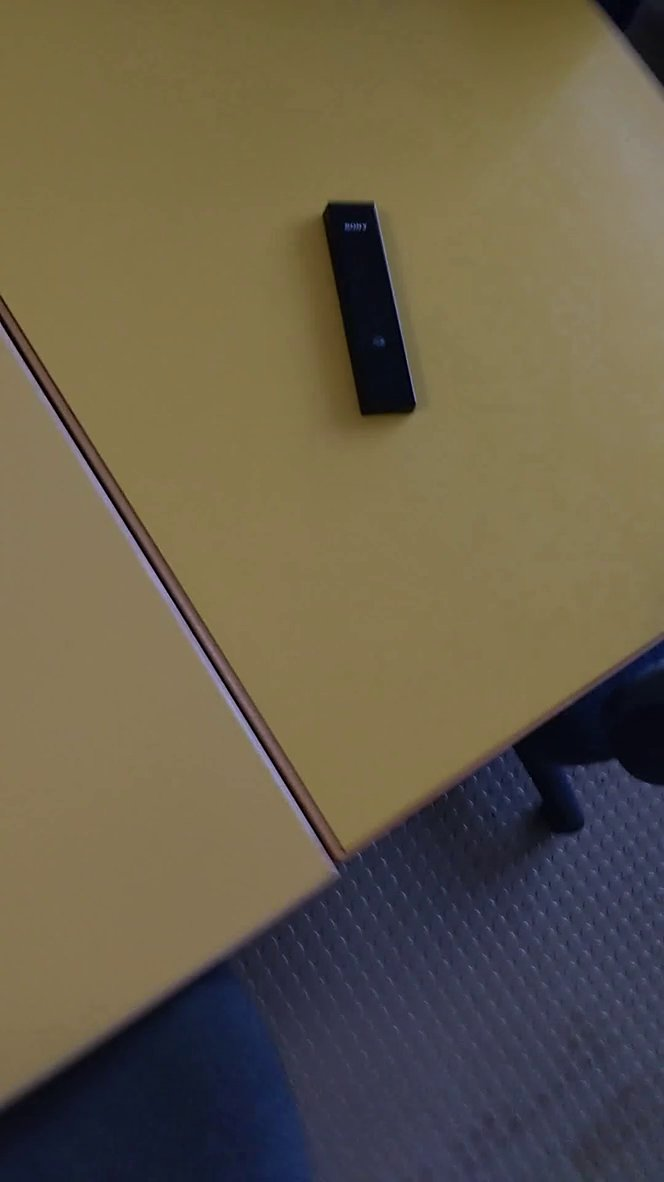remote: (314, 183, 424, 434)
